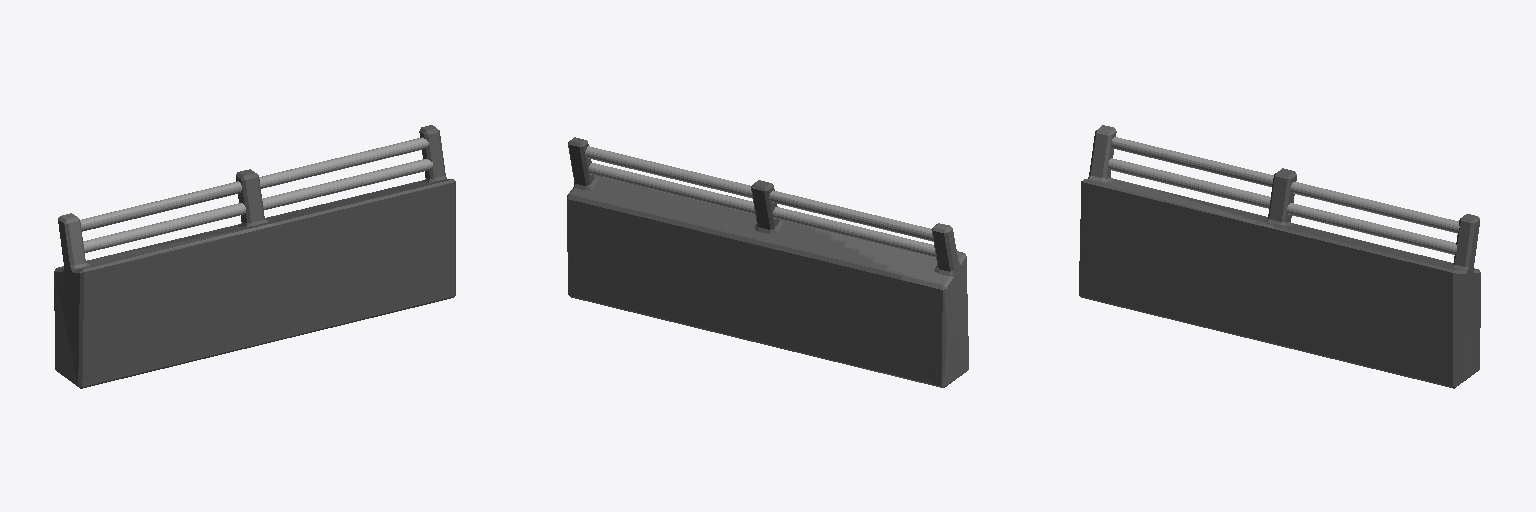
The picture shows the model from 3 angles: view 1: azimuth 30°, elevation 25°; view 2: azimuth 150°, elevation 25°; view 3: azimuth 330°, elevation 25°; orthographic projection.
Visible parts, largest first — view 1: Cube, Cylinder.001; view 2: Cube, Cylinder.001; view 3: Cube, Cylinder.001.
Part boxes in pixels (left/top/right/bottom): Cube: left=54, top=125, right=455, bottom=388; Cylinder.001: left=80, top=137, right=432, bottom=252; Cube: left=567, top=137, right=968, bottom=387; Cylinder.001: left=585, top=146, right=935, bottom=257; Cube: left=1079, top=125, right=1480, bottom=388; Cylinder.001: left=1108, top=137, right=1459, bottom=254.
Bounding box in the file's own units: 14.47 × 5.72 × 1.75.
2 materials, 1 textured.